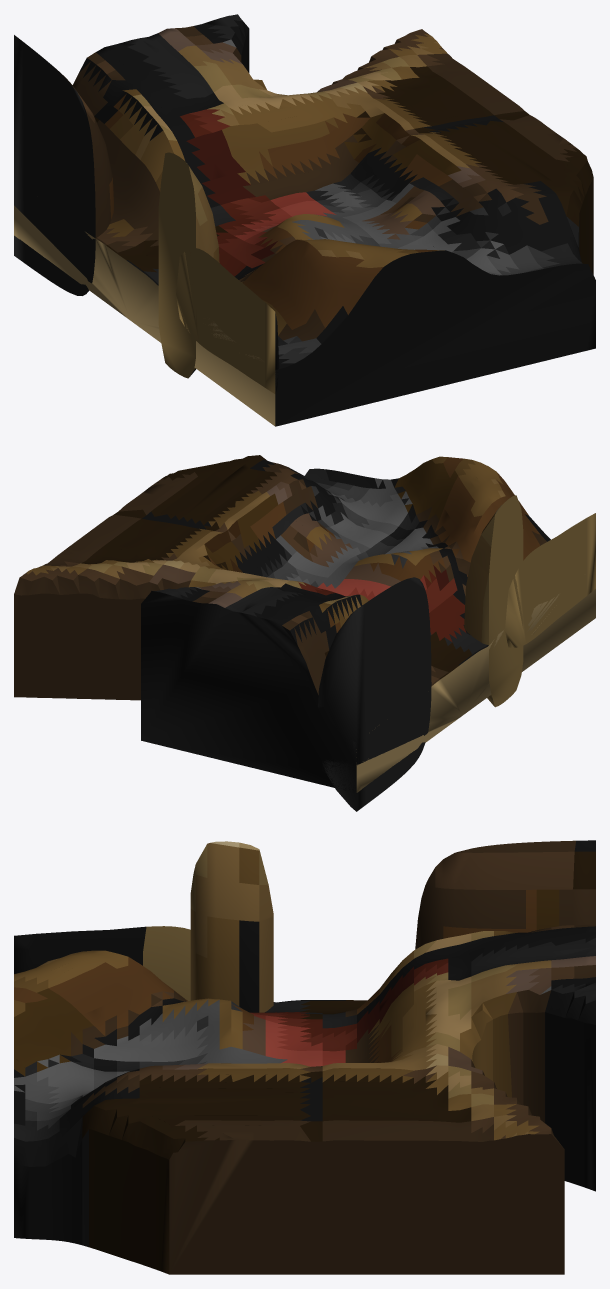
Rendered from tusk_boss_54.glb.
3 views of the same model, one above another, from view 1: azimuth 30°, elevation 25°; view 2: azimuth 150°, elevation 25°; view 3: azimuth 270°, elevation 25° (orthographic). The views are drawn at different scales.
Visible parts, largest first — view 1: tusk_boss_54_plates; view 2: tusk_boss_54_plates; view 3: tusk_boss_54_plates.
Boxes of the visible parts, x1=… form: tusk_boss_54_plates: x1=14, y1=14, x2=595, y2=426; tusk_boss_54_plates: x1=14, y1=455, x2=595, y2=811; tusk_boss_54_plates: x1=14, y1=840, x2=595, y2=1274.
Size of the model in its own units: 24 by 13.07 by 28.
